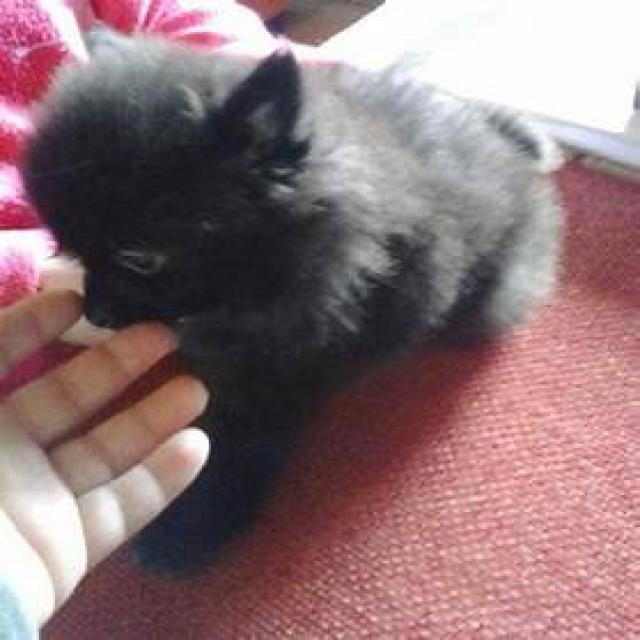dog: (14, 21, 567, 448)
